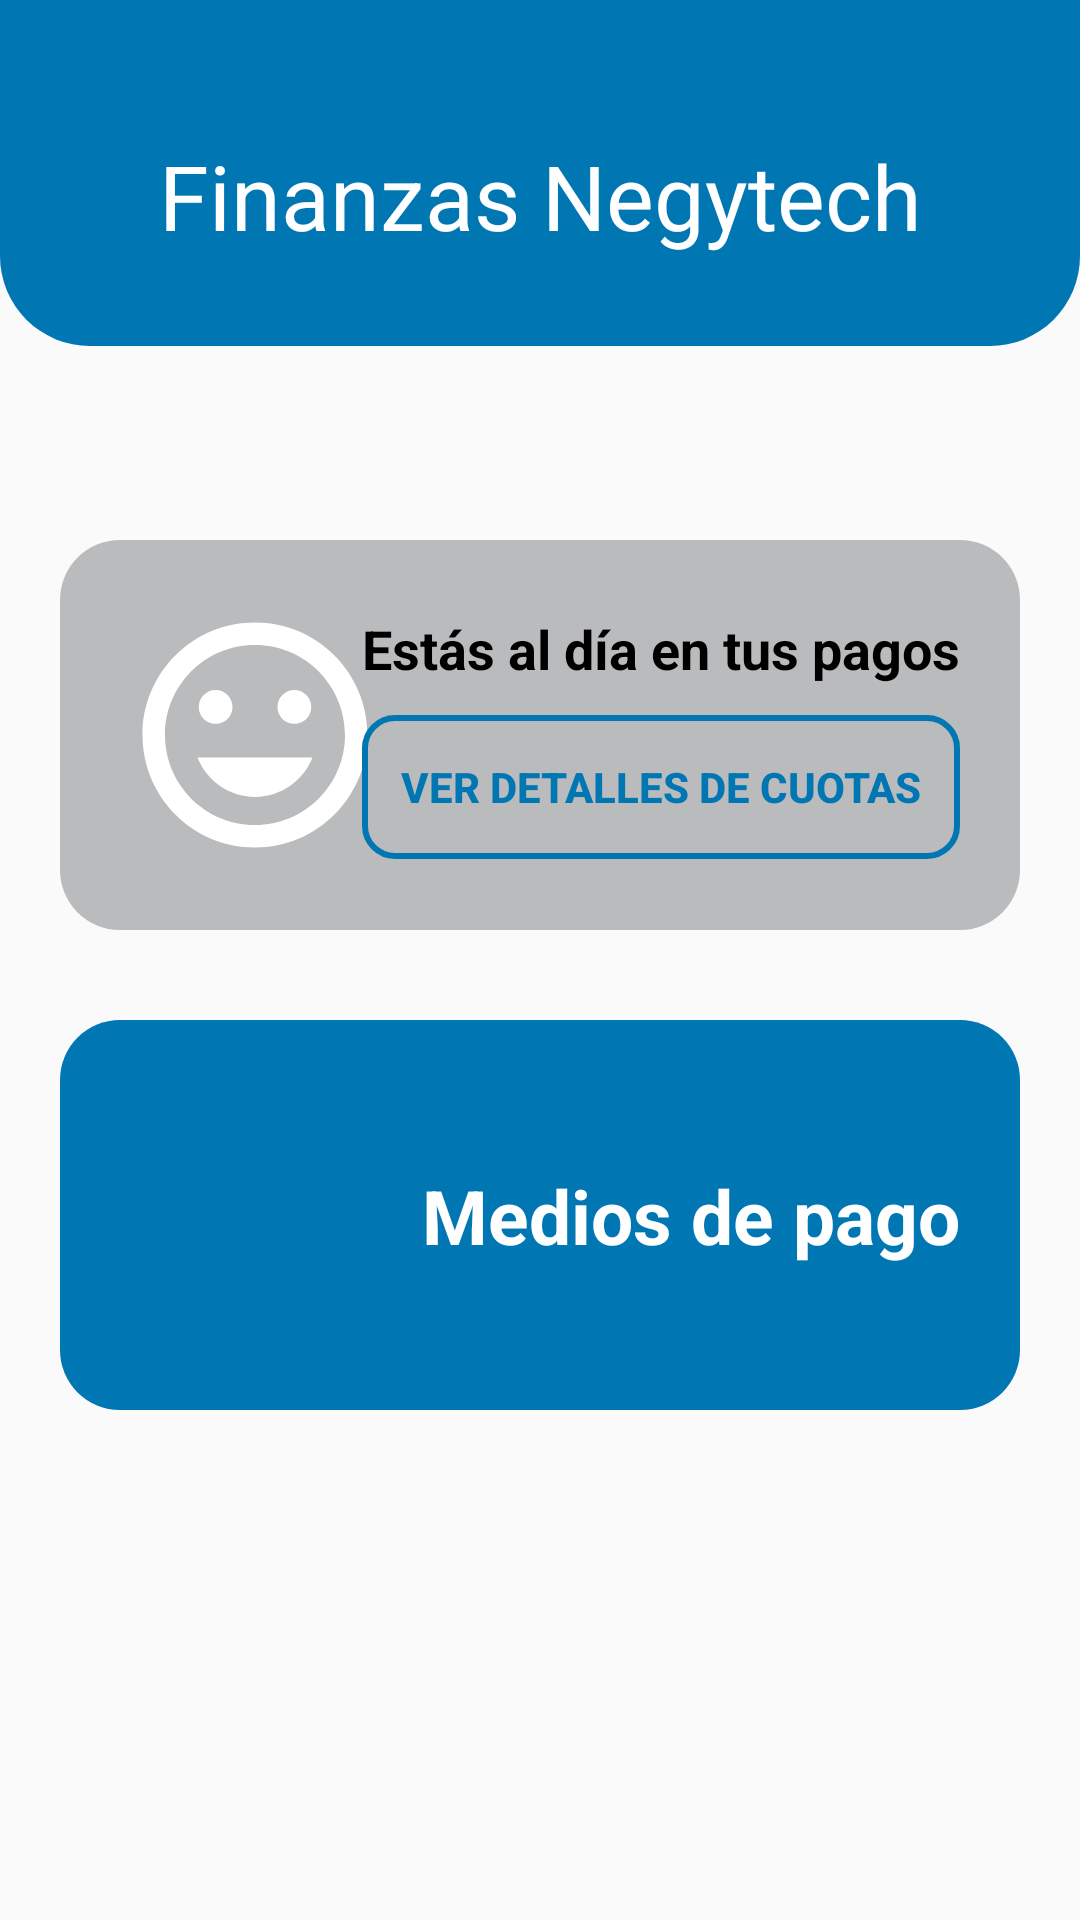

Where to tap for icons on this 1080px x 1920px app screen, as (x,y):
smille: (266,740)
